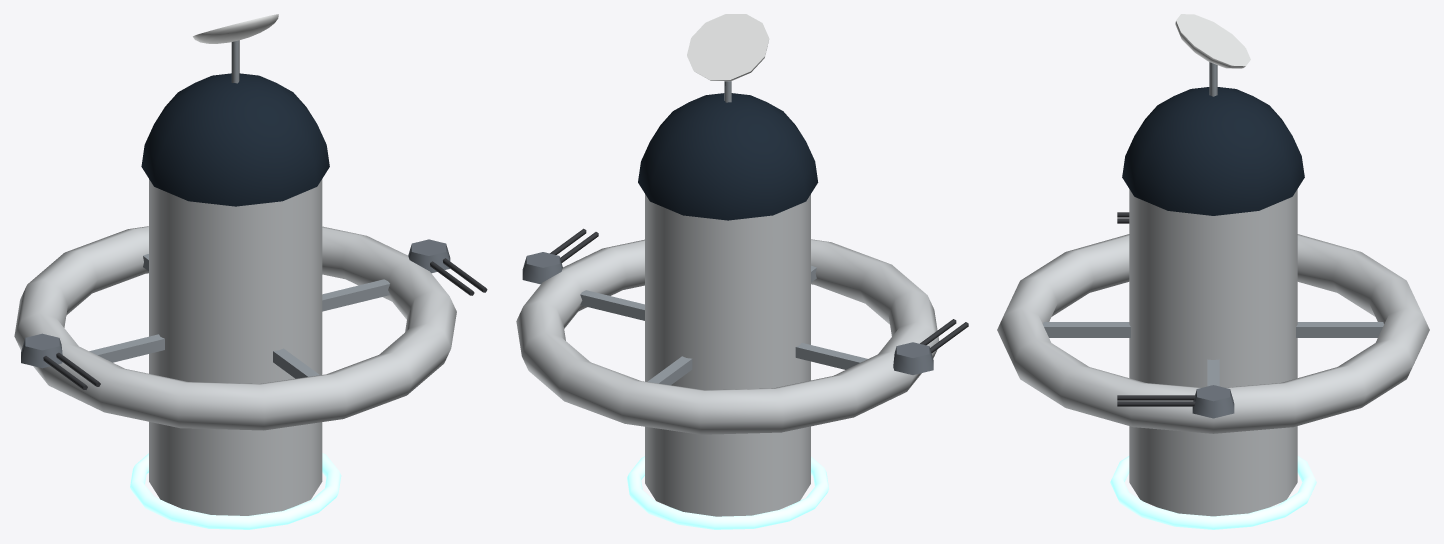
File: space_orbital_command_center_t1.glb
3 views of the same model, side by side, from view 1: azimuth 30°, elevation 25°; view 2: azimuth 150°, elevation 25°; view 3: azimuth 270°, elevation 25° (orthographic). The views are drawn at different scales.
Parts seen in each view (by area): view 1: body, ring, turret_1, turret_0, antenna_0; view 2: body, ring, antenna_0, turret_1, turret_0; view 3: body, ring, antenna_0, turret_0.
Part boxes in pixels (x1,y1,x2,y2): body: [130, 73, 341, 529]; ring: [14, 226, 456, 430]; turret_1: [21, 333, 100, 389]; turret_0: [408, 239, 487, 295]; antenna_0: [193, 14, 278, 83]; body: [627, 93, 828, 529]; ring: [516, 239, 938, 434]; antenna_0: [687, 14, 769, 102]; turret_1: [893, 319, 968, 374]; turret_0: [522, 228, 598, 284]; body: [1110, 87, 1316, 529]; ring: [997, 234, 1429, 433]; antenna_0: [1175, 14, 1250, 96]; turret_0: [1117, 385, 1234, 418].
Size of what is drawn, in the model's own units: 20 by 21.5 by 18.
